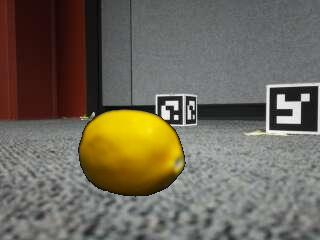lemon: (80, 112, 182, 196)
